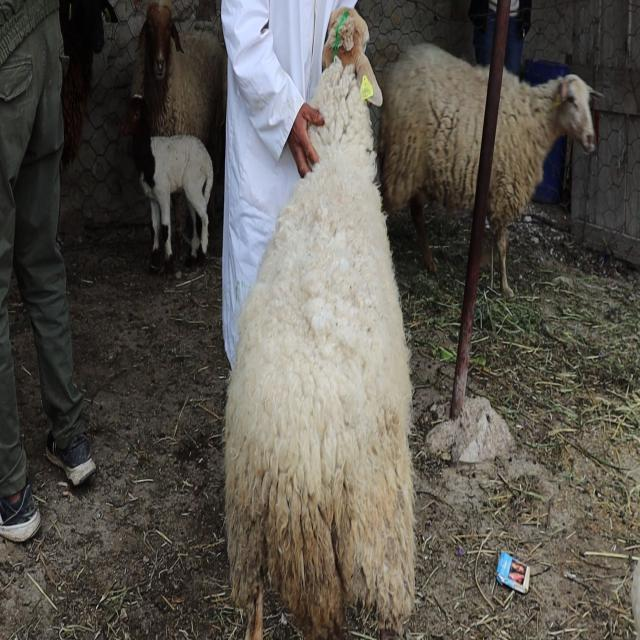Score_4: (225, 8, 415, 639)
